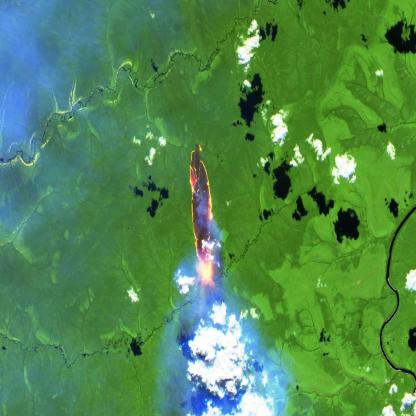fire: (186, 139, 218, 290)
